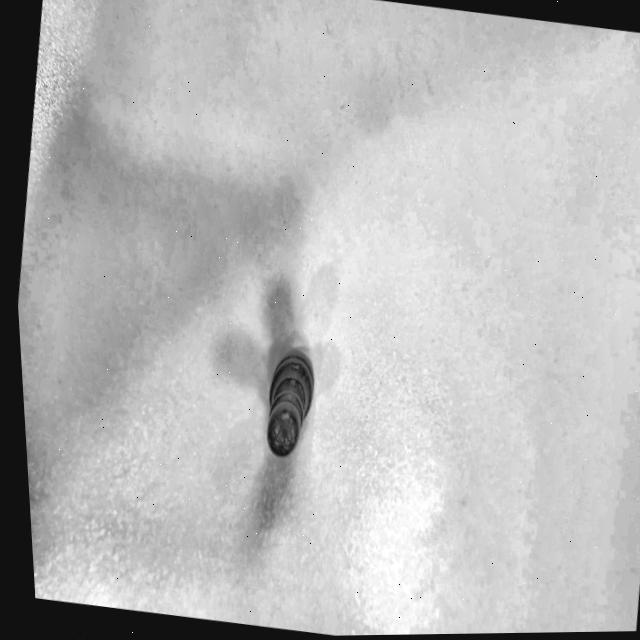black-pawn: (248, 337, 331, 473)
